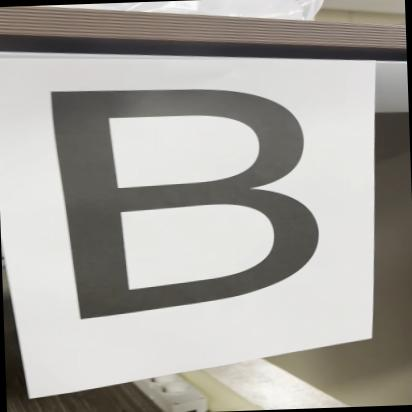seat: (28, 71, 224, 293)
